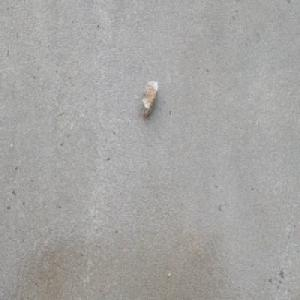Rock: (140, 80, 159, 119)
